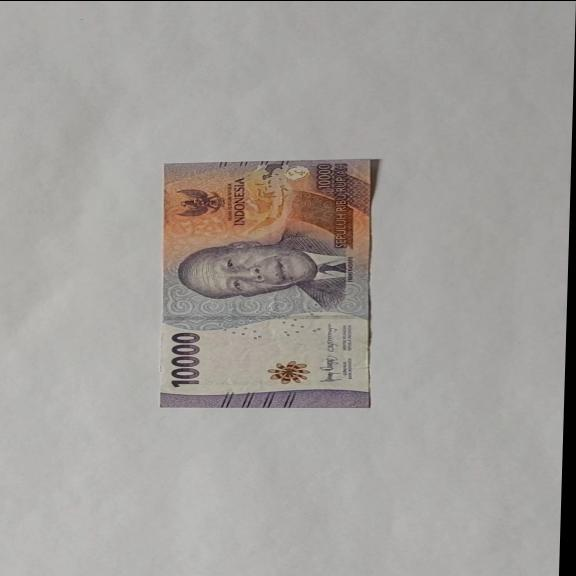Kertas: (154, 158, 379, 408), (166, 331, 203, 388)
